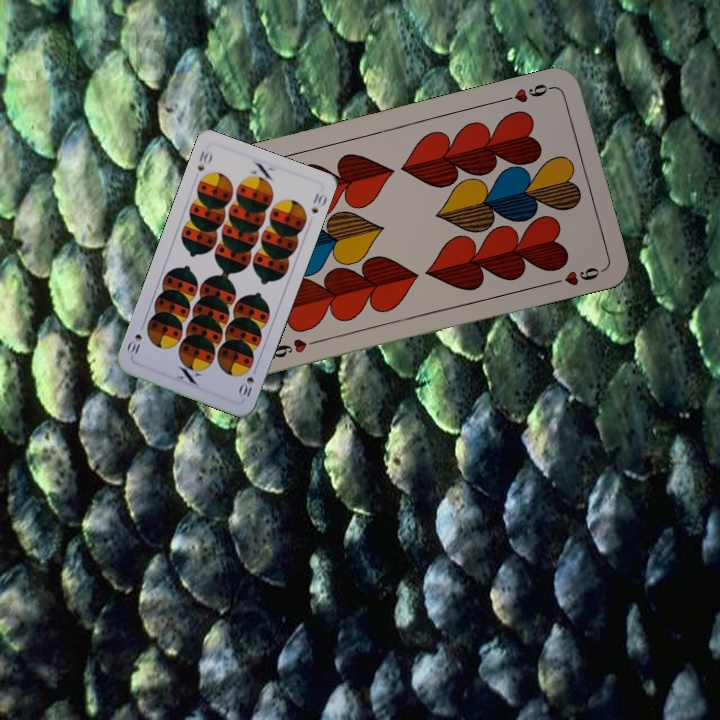H9: (264, 334, 323, 361), (499, 80, 558, 105)
S10: (234, 363, 260, 400), (193, 147, 215, 174)
